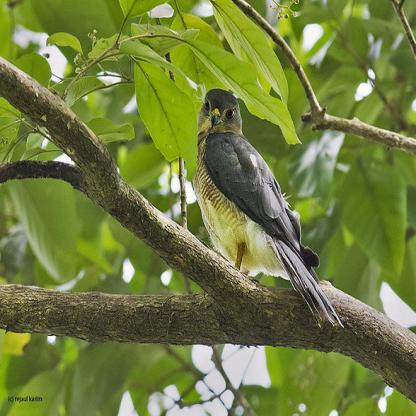Burung: (193, 87, 342, 328)
